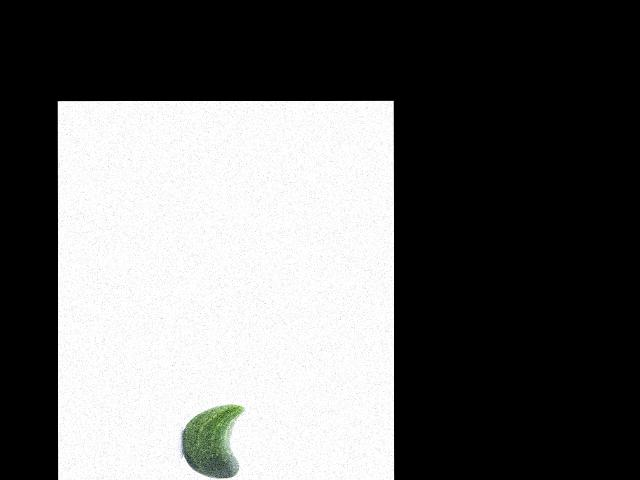cucumber: (182, 403, 244, 478)
